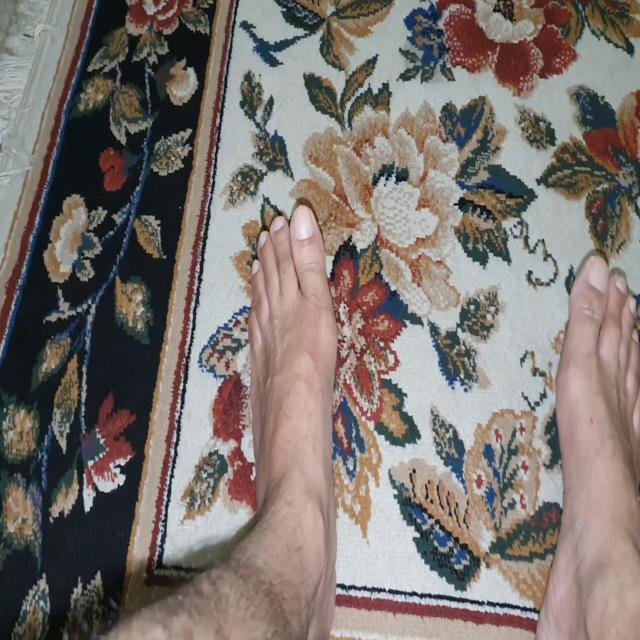no-boots: (232, 192, 345, 640), (540, 245, 640, 640)
